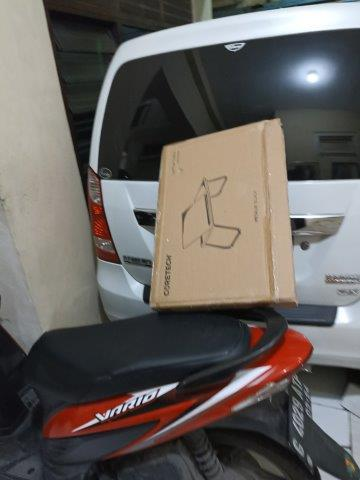kardus: (153, 121, 299, 304)
